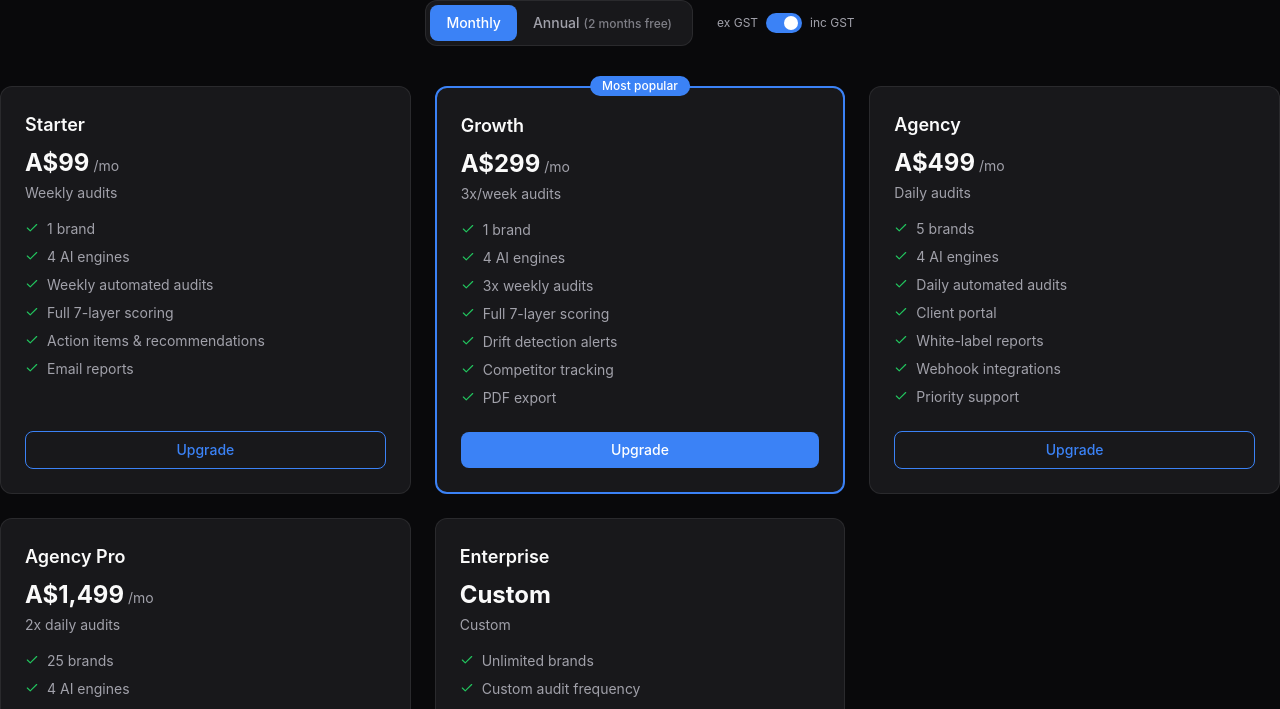
Scenario: PricingTableClient — checkout failure shows an error, doesn't sign the user out › network error (fetch throws) → inline error shown, no redirect to /sign-in
This screenshot has width=1280, height=709.
Click the button "Upgrade" below "Email reports" at (205, 450), box left=25, top=431, right=386, bottom=469
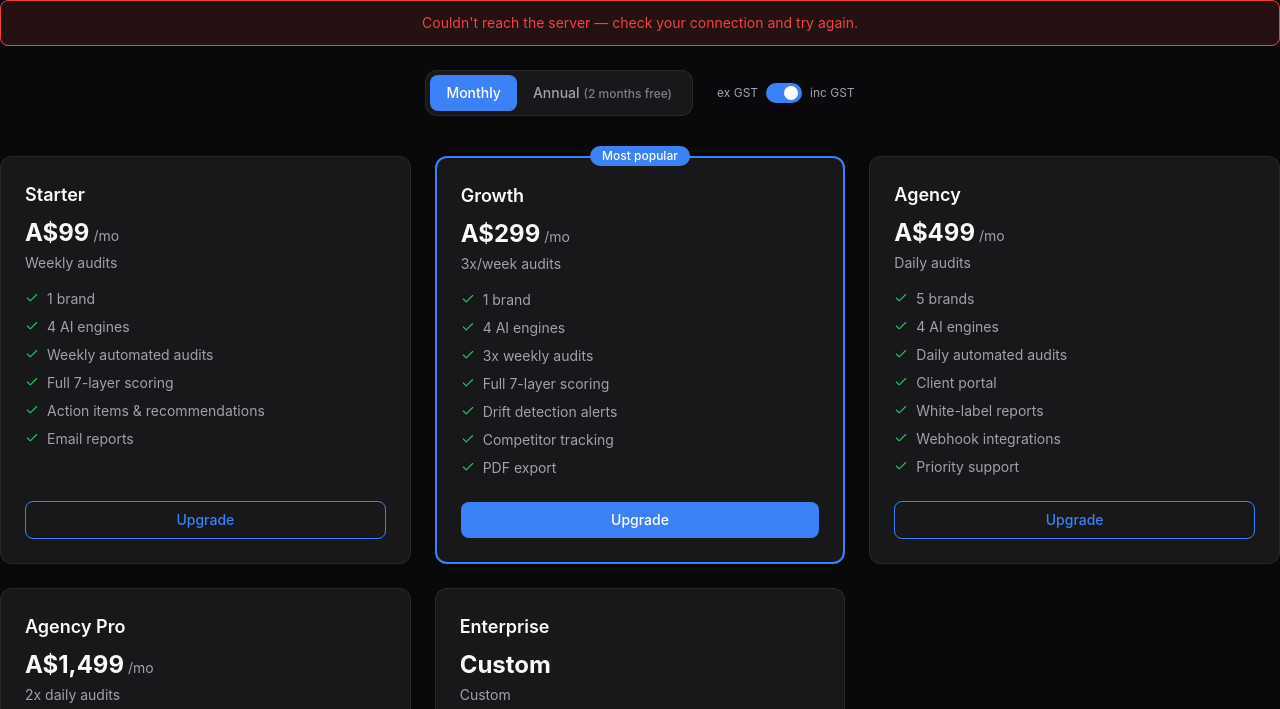
Now the message shows "Couldn't reach the server", box left=422, top=14, right=858, bottom=31
